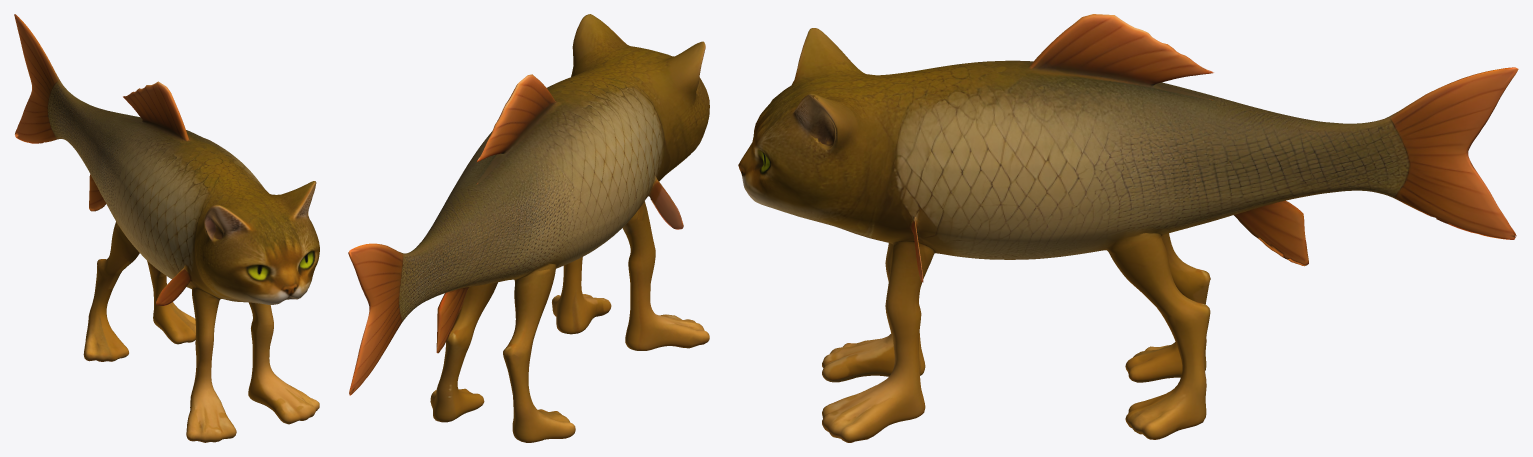
The model's file is Trulimero Trulicina.fbx.
The picture shows the model from 3 angles, left to right: view 1: azimuth 30°, elevation 25°; view 2: azimuth 150°, elevation 25°; view 3: azimuth 270°, elevation 25°; orthographic projection. The views are drawn at different scales.
Parts seen in each view (by area): view 1: Trulimero_Trulicina; view 2: Trulimero_Trulicina; view 3: Trulimero_Trulicina.
Boxes of the visible parts, <box> form: Trulimero_Trulicina: <box>14,14,319,442</box>; Trulimero_Trulicina: <box>348,14,709,442</box>; Trulimero_Trulicina: <box>738,14,1518,442</box>.
Size of the model in its own units: 55.71 by 104 by 190.
Materials: 1 (1 with a texture image).
